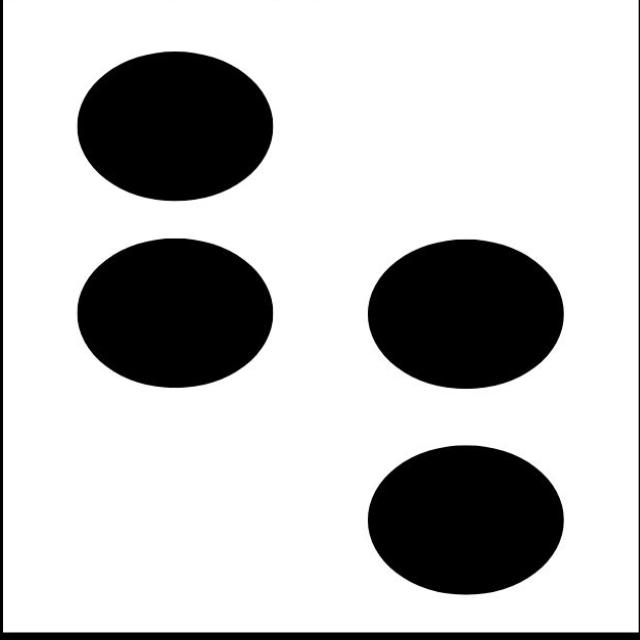one_cell_non_alphabet_tunay: (73, 50, 565, 598)
